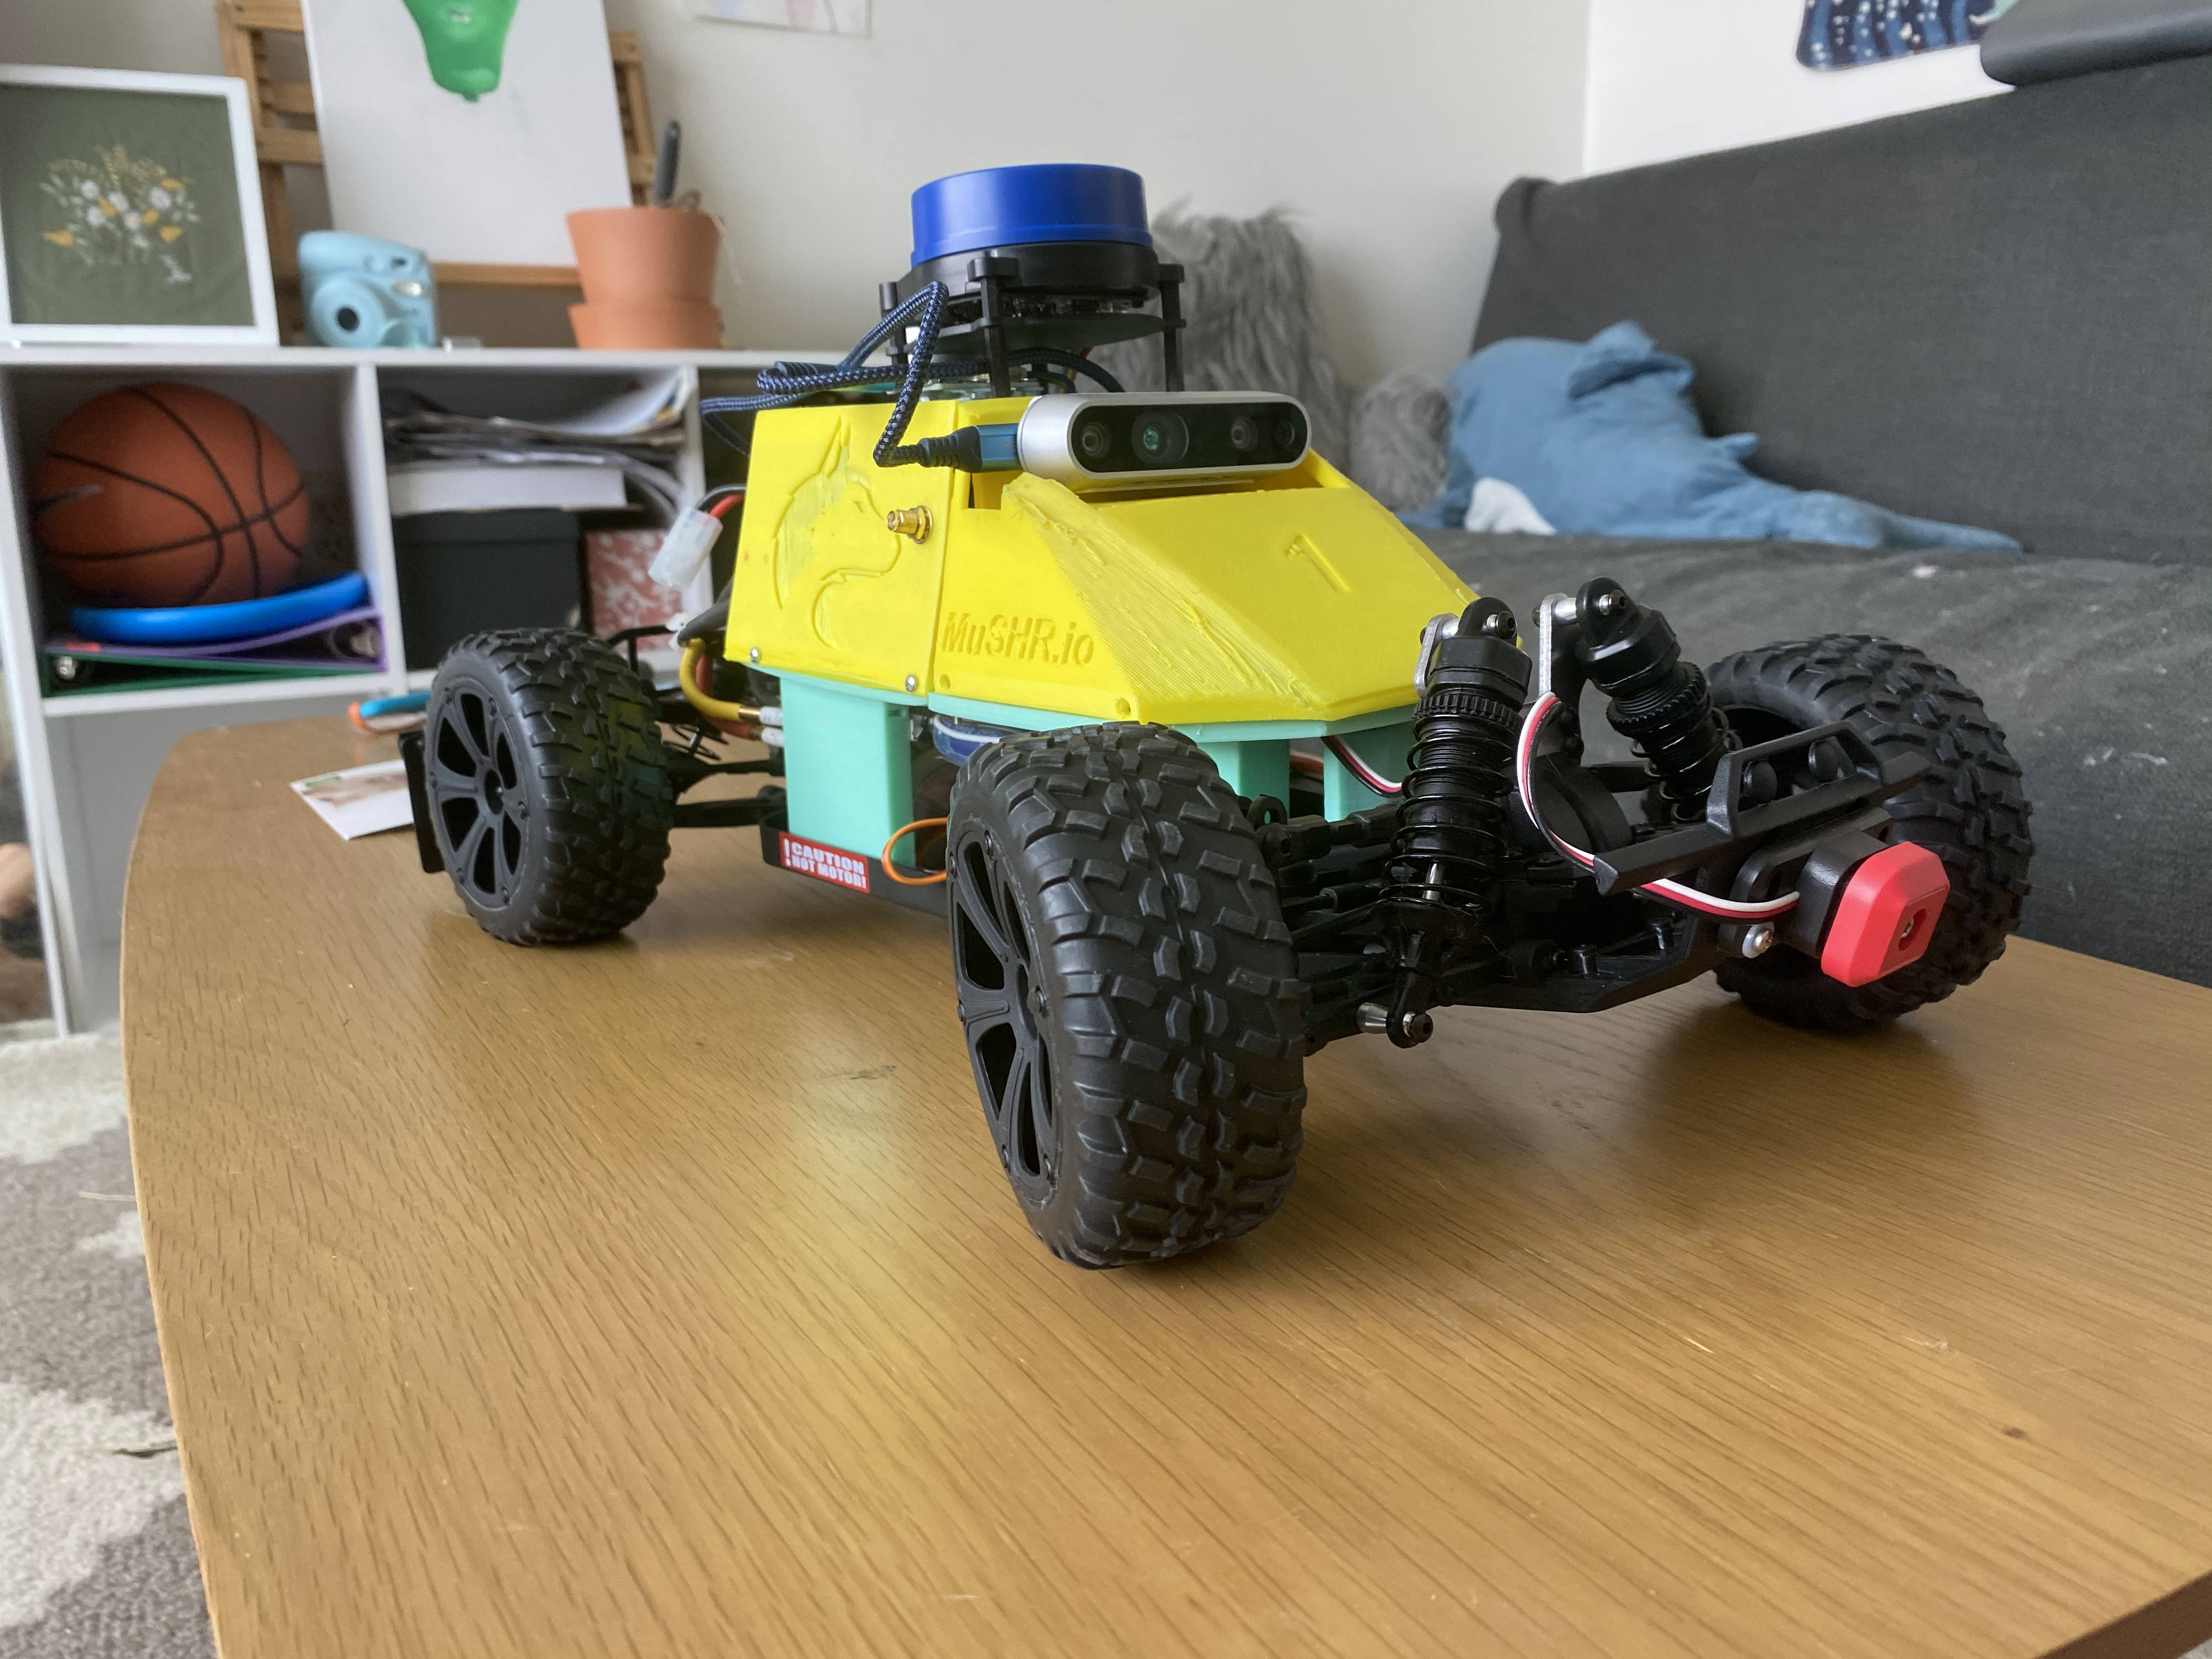mushr_car: (402, 155, 2041, 1295)
